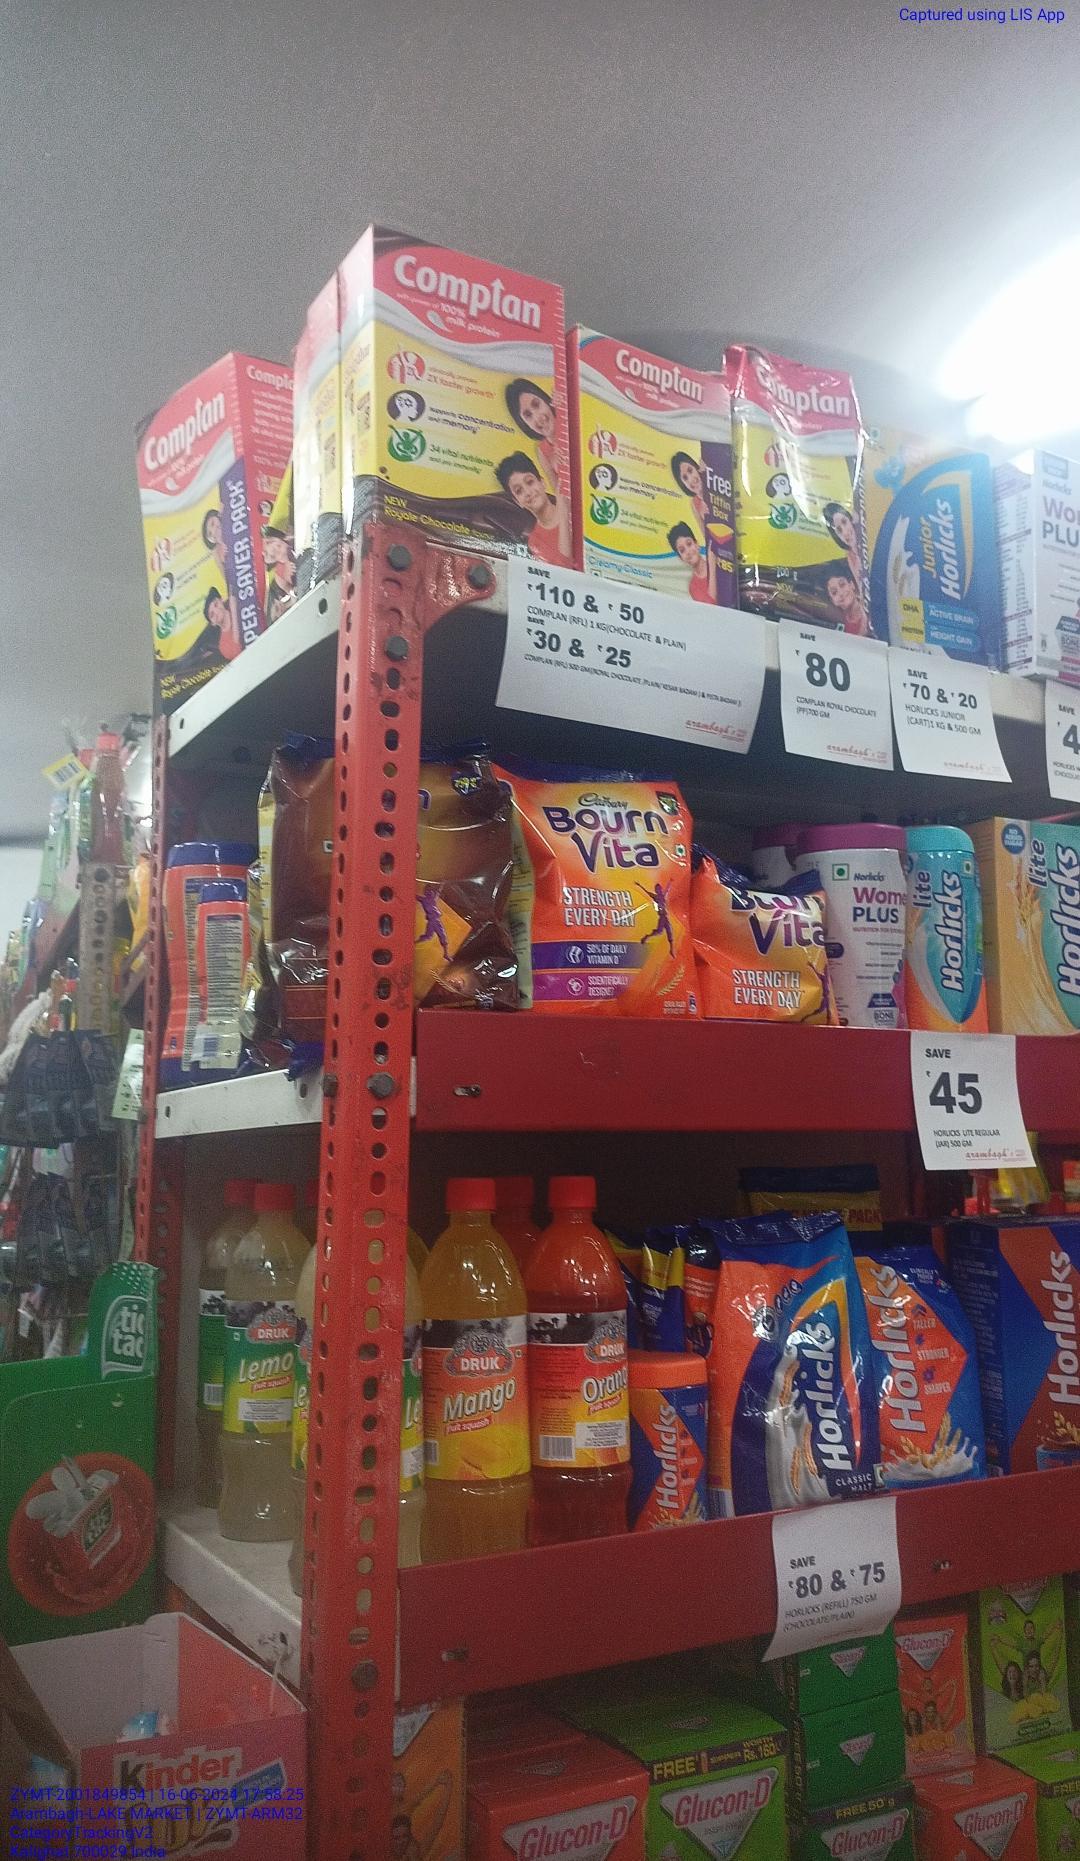HORLICKS_LITE_REGULAR_MALT_500_GM_JAR: (909, 824, 989, 1032)
